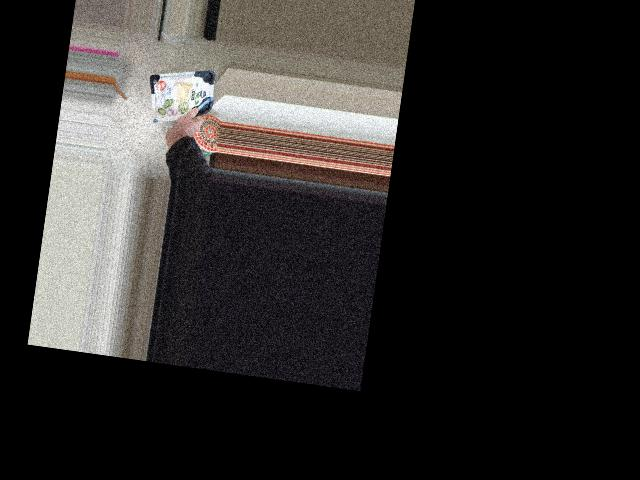cheese: (143, 67, 221, 124)
